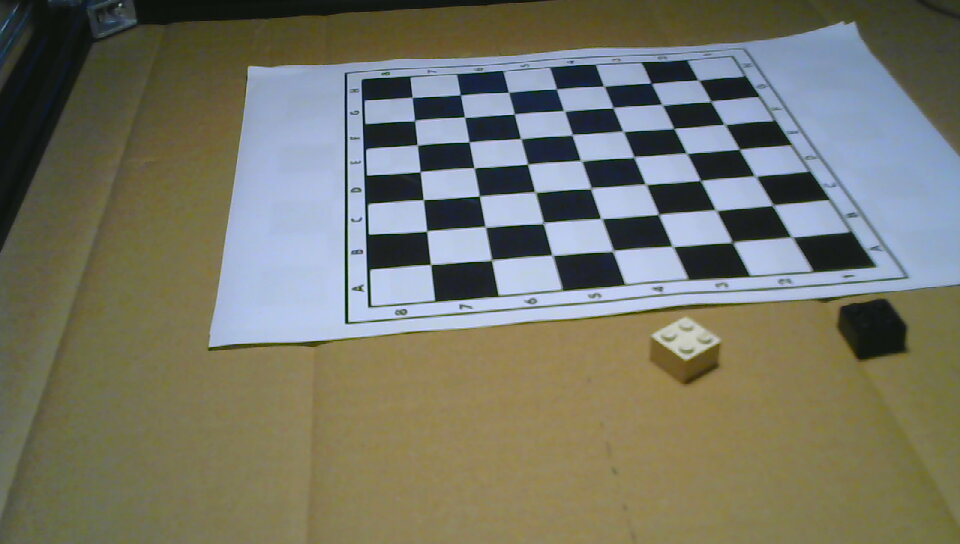bp: (837, 299, 908, 361)
wp: (649, 316, 721, 384)
